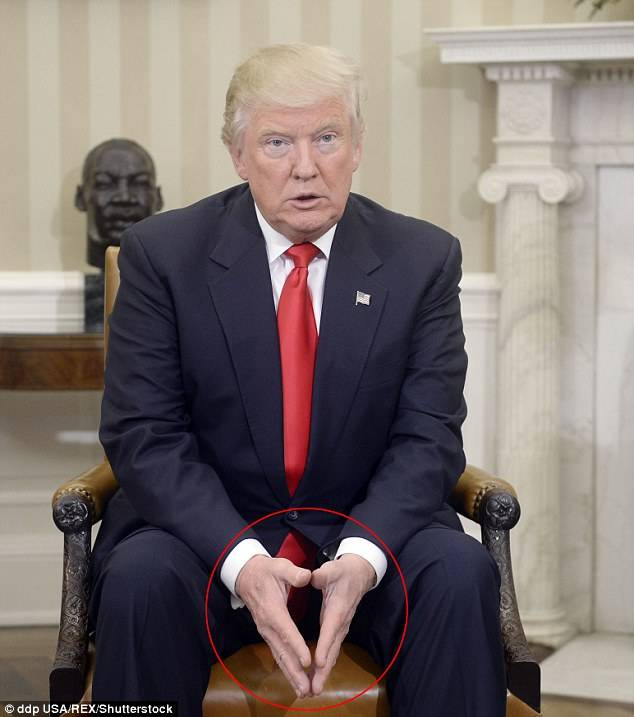no-phone: (235, 549, 314, 699), (306, 550, 375, 692)
